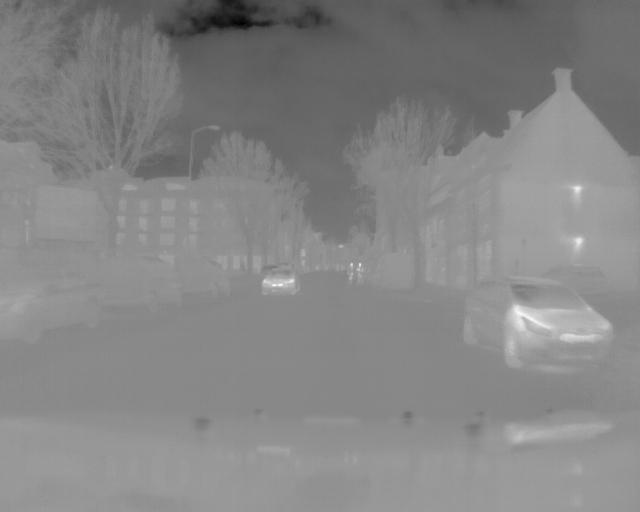car: (458, 278, 622, 372), (1, 266, 99, 332), (100, 251, 185, 318), (181, 253, 231, 303), (259, 262, 302, 293)
person: (346, 258, 355, 282), (357, 260, 365, 285)
